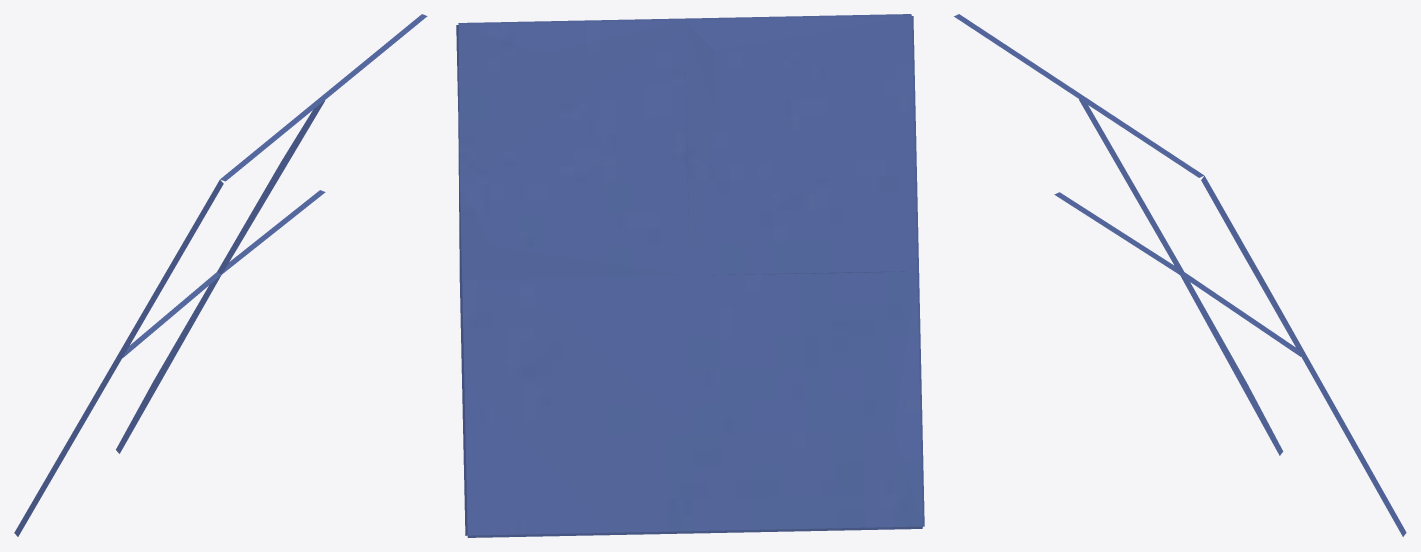
The picture shows the model from 3 angles, left to right: view 1: azimuth 30°, elevation 25°; view 2: azimuth 150°, elevation 25°; view 3: azimuth 270°, elevation 25°; orthographic projection. The views are drawn at different scales.
Size of the model in its own units: 78826 by 69969 by 69230.
1 material, 1 textured.
